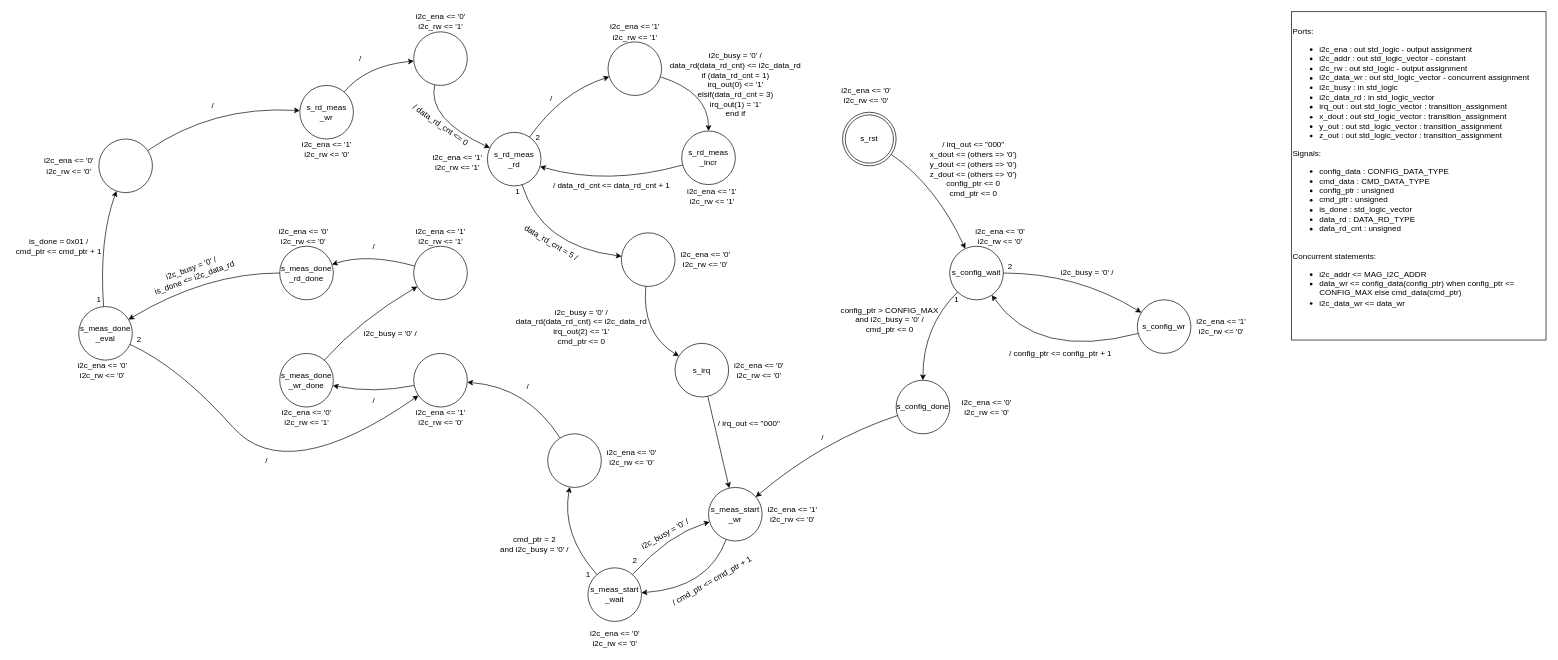
Some shapes in this 1558 by 660 pixel diagram are drawn without their labels. The centre of each missing label's shape, as x and y in pixels:
s_meas_done _done: the point at 125,165
s_meas_done _rd: the point at 440,273
s_meas_done _wr: the point at 440,380
s_meas_start _done: the point at 574,460
s_rd_meas _rd_done: the point at 648,259
s_rd_meas _rd_wait: the point at 634,68
s_rd_meas _wr _done: the point at 440,58
